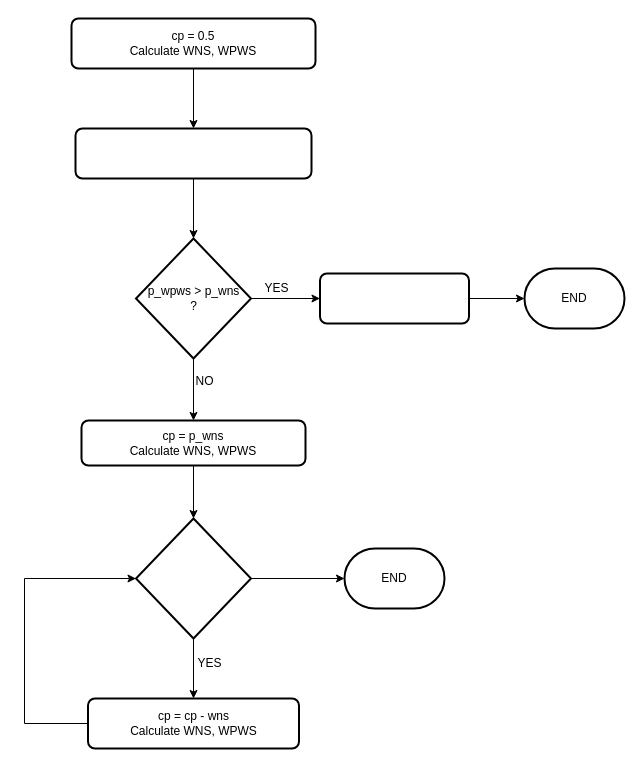
Image size: 643x766. Some labels were removed from this diagram. The shapes that lost their labels are listed below. From the top down, each one's box as (x1, y1, x2, y2) in pixels, then its label:
(74, 127, 312, 179): p_wns = cp - wns p_wpws = cp - wpws
(318, 272, 470, 324): cp =p_wpws Calculate WNS, WPWS
(134, 517, 252, 639): WNS < 0 ?
